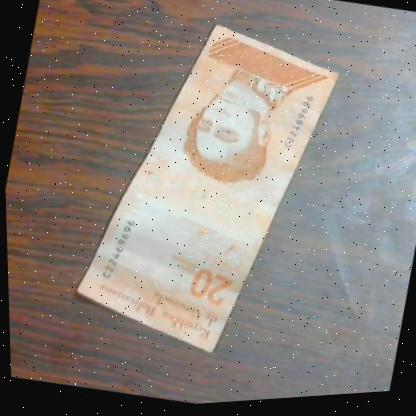twenty-front-vef: (58, 1, 351, 378)
